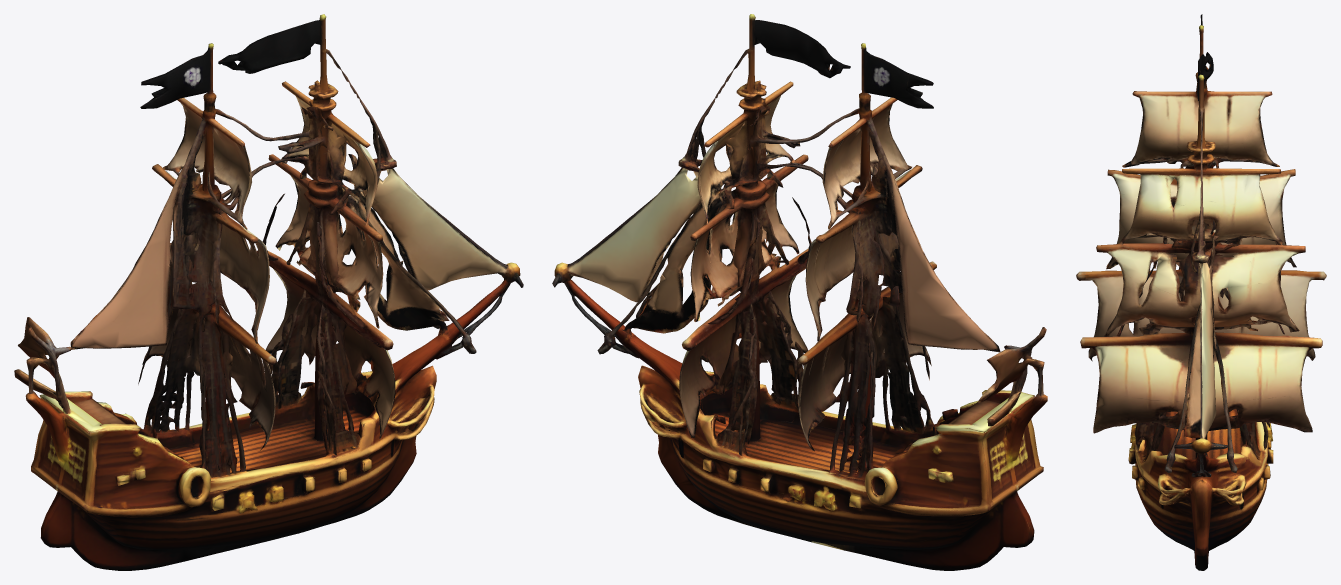
File: white_ship.glb
The picture shows the model from 3 angles, left to right: view 1: azimuth 30°, elevation 25°; view 2: azimuth 150°, elevation 25°; view 3: azimuth 270°, elevation 25°; orthographic projection. The views are drawn at different scales.
Size of the model in its own units: 1 by 0.9925 by 0.472.
Materials: 1 (1 with a texture image).
